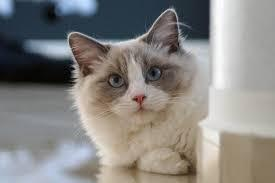ragdoll: (68, 1, 188, 143)
